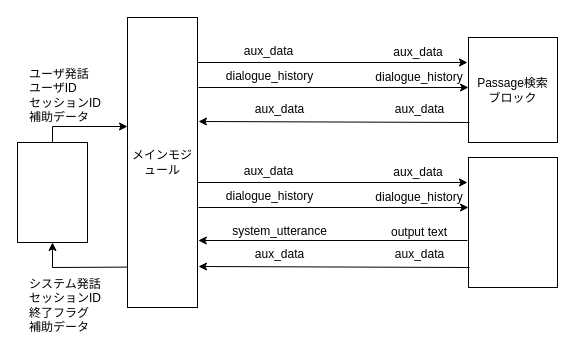
This 575x351 diagram has some shape labels left out. Here are the shapes that lost their labels. From the top down, the box of each, then its label:
(16, 142, 88, 242): フロントエンドまたは他アプリ
(468, 156, 558, 288): LLM対話 ブロック
